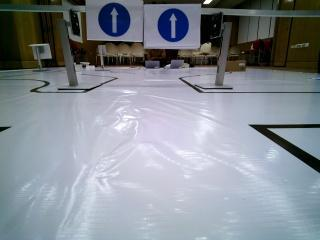straight: (143, 3, 201, 46), (86, 0, 142, 40)
